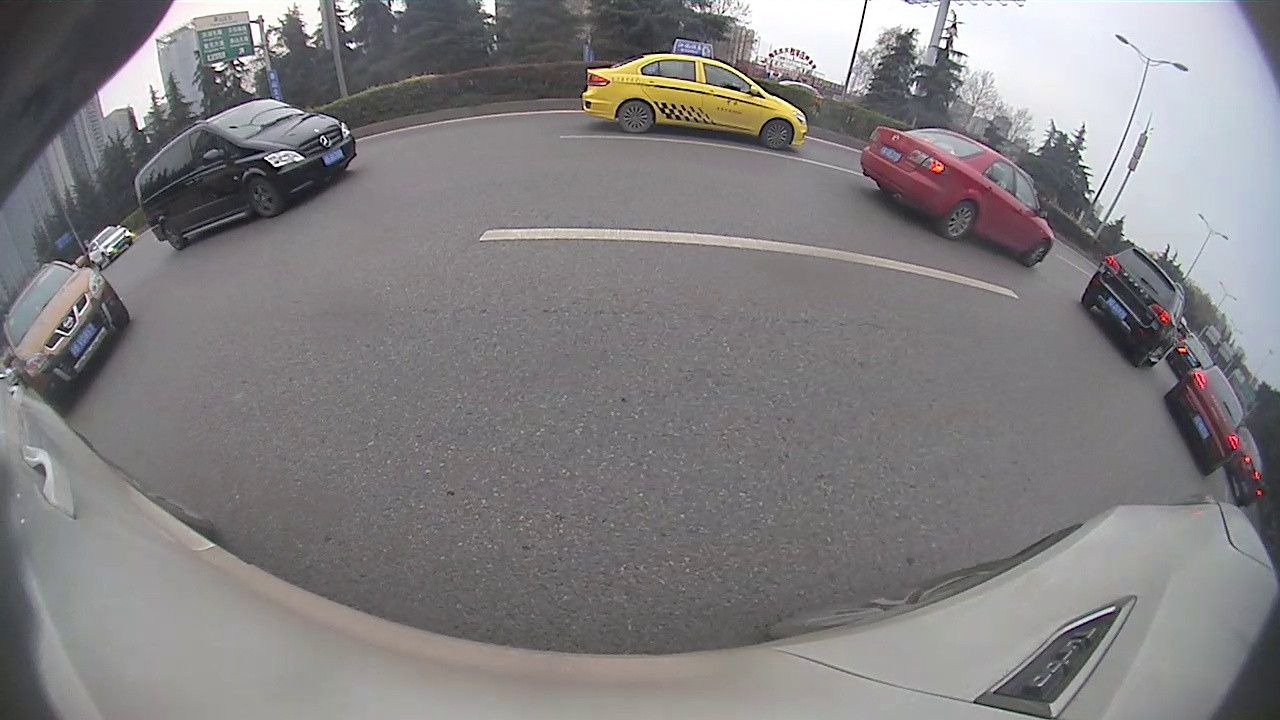car: (135, 99, 356, 251), (864, 119, 1053, 268), (582, 37, 809, 159), (5, 266, 128, 406), (1083, 242, 1186, 365), (1160, 363, 1249, 475), (88, 228, 135, 268)
front: (247, 179, 281, 218), (763, 118, 792, 152), (1021, 240, 1050, 268)
rear: (943, 201, 981, 239), (621, 99, 654, 135), (160, 220, 185, 250)
